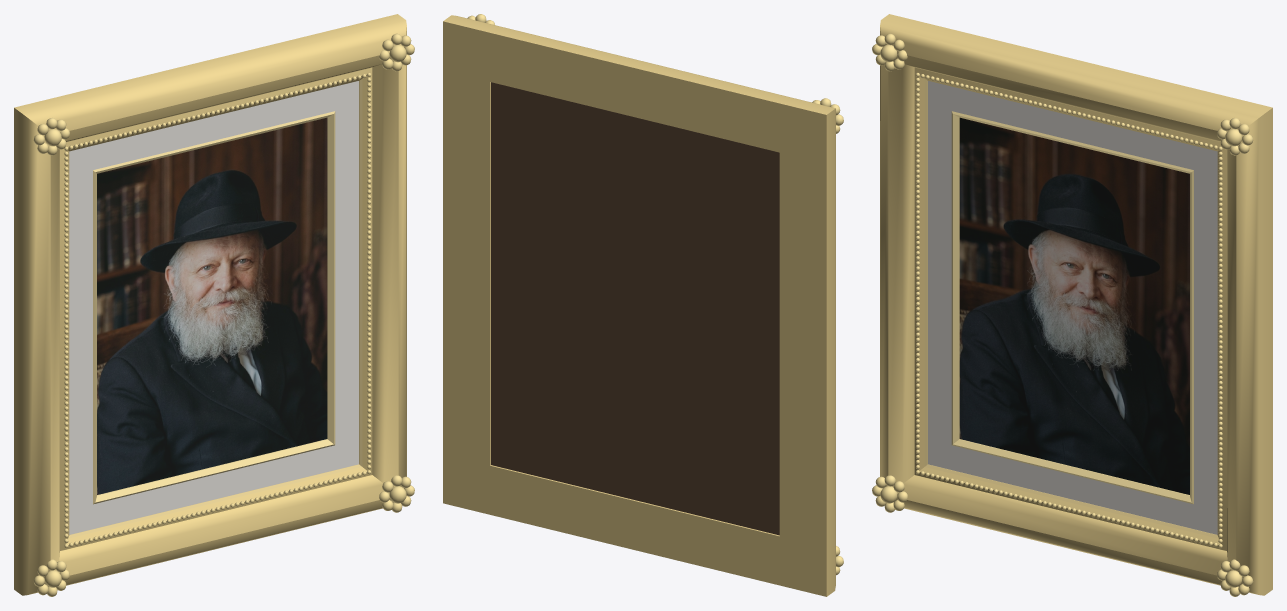
Rendered from rebbe_portrait.glb.
3 renders of one model, left to right at view 1: azimuth 30°, elevation 25°; view 2: azimuth 150°, elevation 25°; view 3: azimuth 330°, elevation 25°, orthographic.
Visible parts, largest first — view 1: Rebbe_Portrait_Framed; view 2: Rebbe_Portrait_Framed; view 3: Rebbe_Portrait_Framed.
Part boxes in pixels (left/top/right/bottom): Rebbe_Portrait_Framed: left=14, top=14, right=414, bottom=596; Rebbe_Portrait_Framed: left=443, top=14, right=843, bottom=596; Rebbe_Portrait_Framed: left=872, top=14, right=1272, bottom=596.
Bounding box in the file's own units: 0.474 × 0.569 × 0.0515.
Materials: 6 (1 with a texture image).
